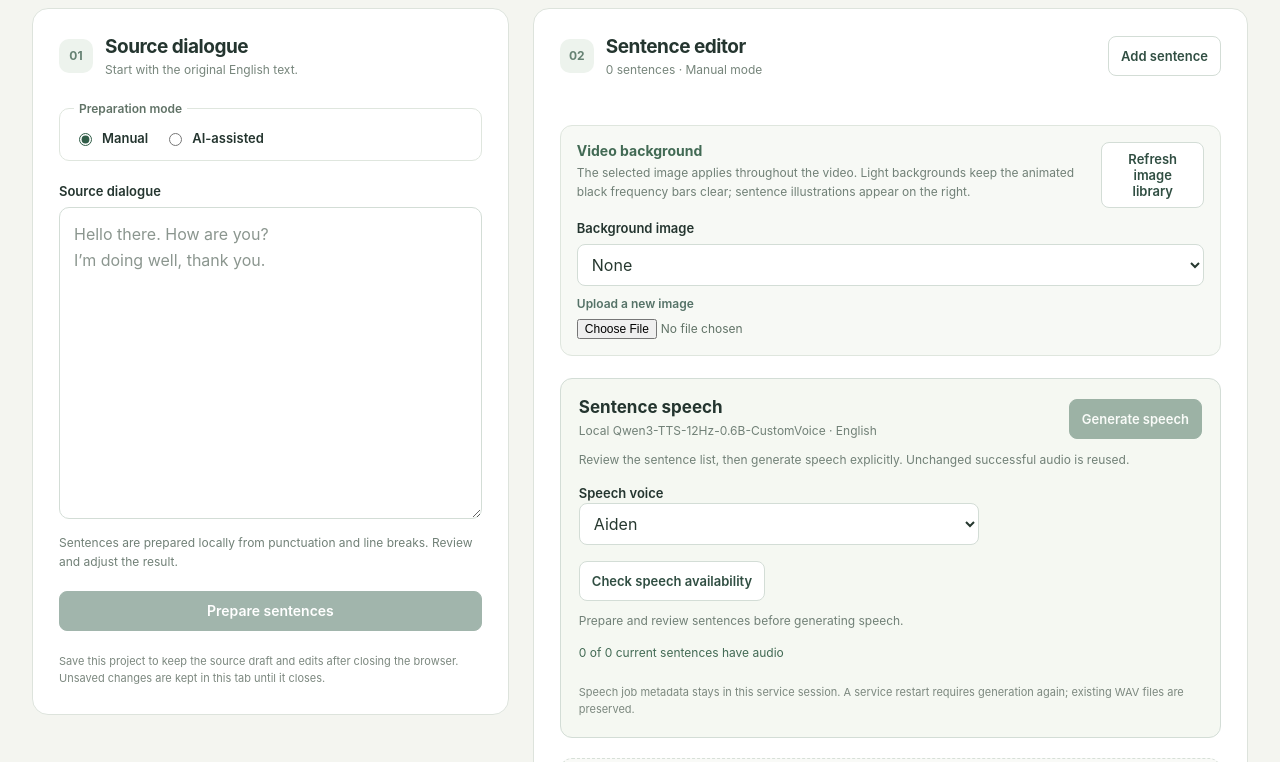
Test: sentence speech UI › clears an interrupted job when the service reports a restart failure
(page scrolled)
Type "Hello. Next." into the text box labelled "Source dialogue". click: (270, 363)
box: [59,207,482,518]
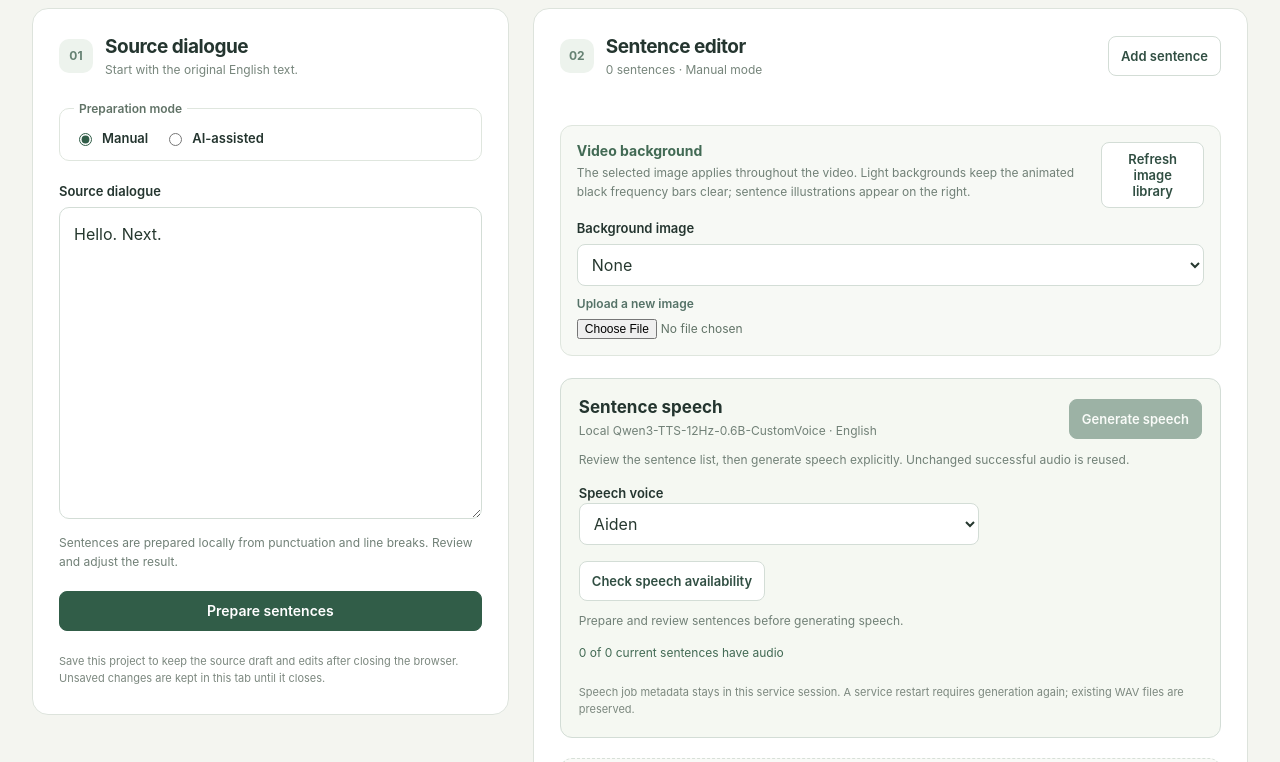
Click the button "Prepare sentences". click: (270, 611)
box: [59,591,482,631]
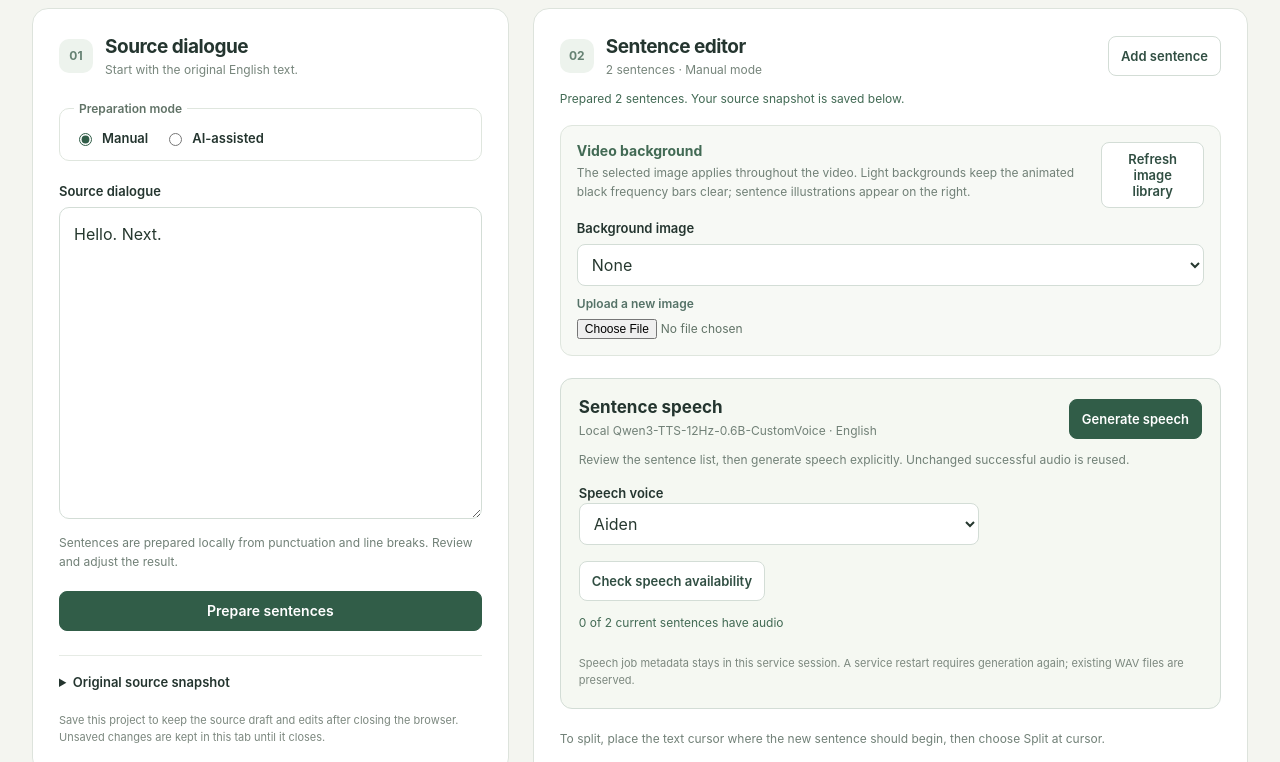
Click the button "Generate speech". click: (1135, 419)
box: [1069,399,1202,439]
Wait 1000 ms
(page scrolled)
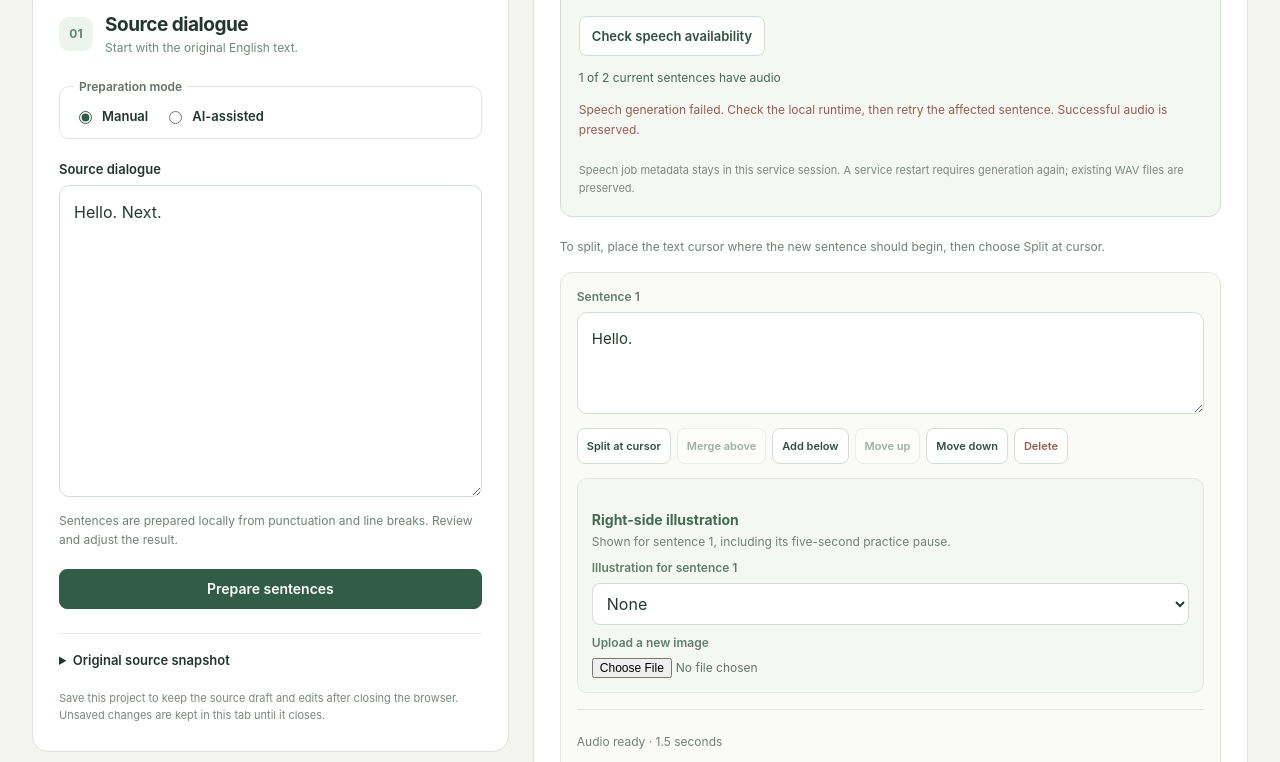
Now the text box labelled "Sentence 1" holds "Hello.", box [577,312,1204,414]
Now the 2nd message shows "Check the local runtime, then retry", box [579,102,1167,137]
